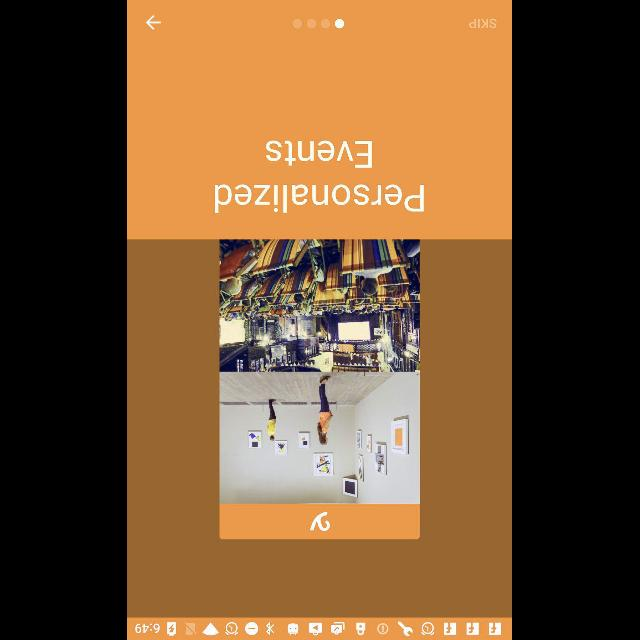icon: (146, 15, 162, 30)
image: (220, 239, 420, 539)
pageindicator: (292, 18, 346, 30)
text: (216, 140, 424, 213), (469, 19, 497, 29)
uppertaskbar: (128, 617, 512, 639)
